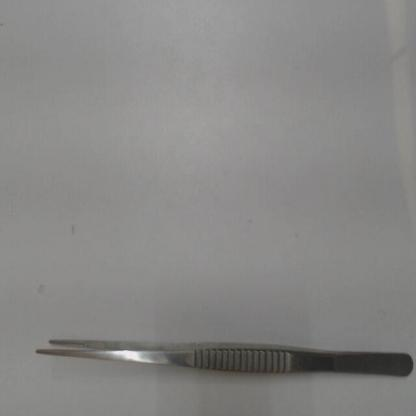DeBakey Dissector: (25, 320, 416, 385)
